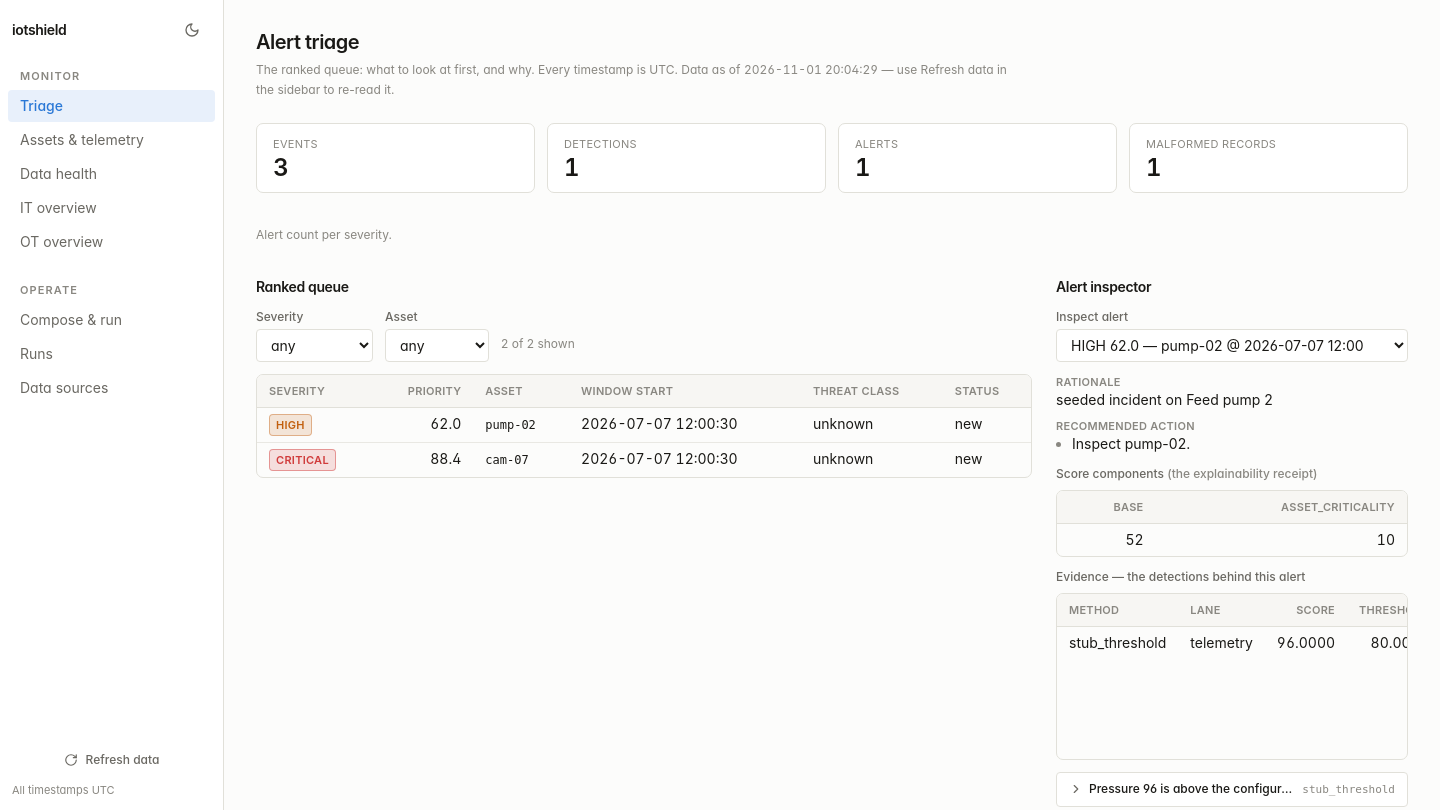
Test: Triage › selects an alert from the queue itself, and puts the choice in the URL
expect the text "seeded incident on Feed pump 2" is shown: met, box [1056,390,1273,408]
Click the button with aria-label "Inspect CRITICAL 88.4 — cam-07": (302, 460) [269,448,336,470]
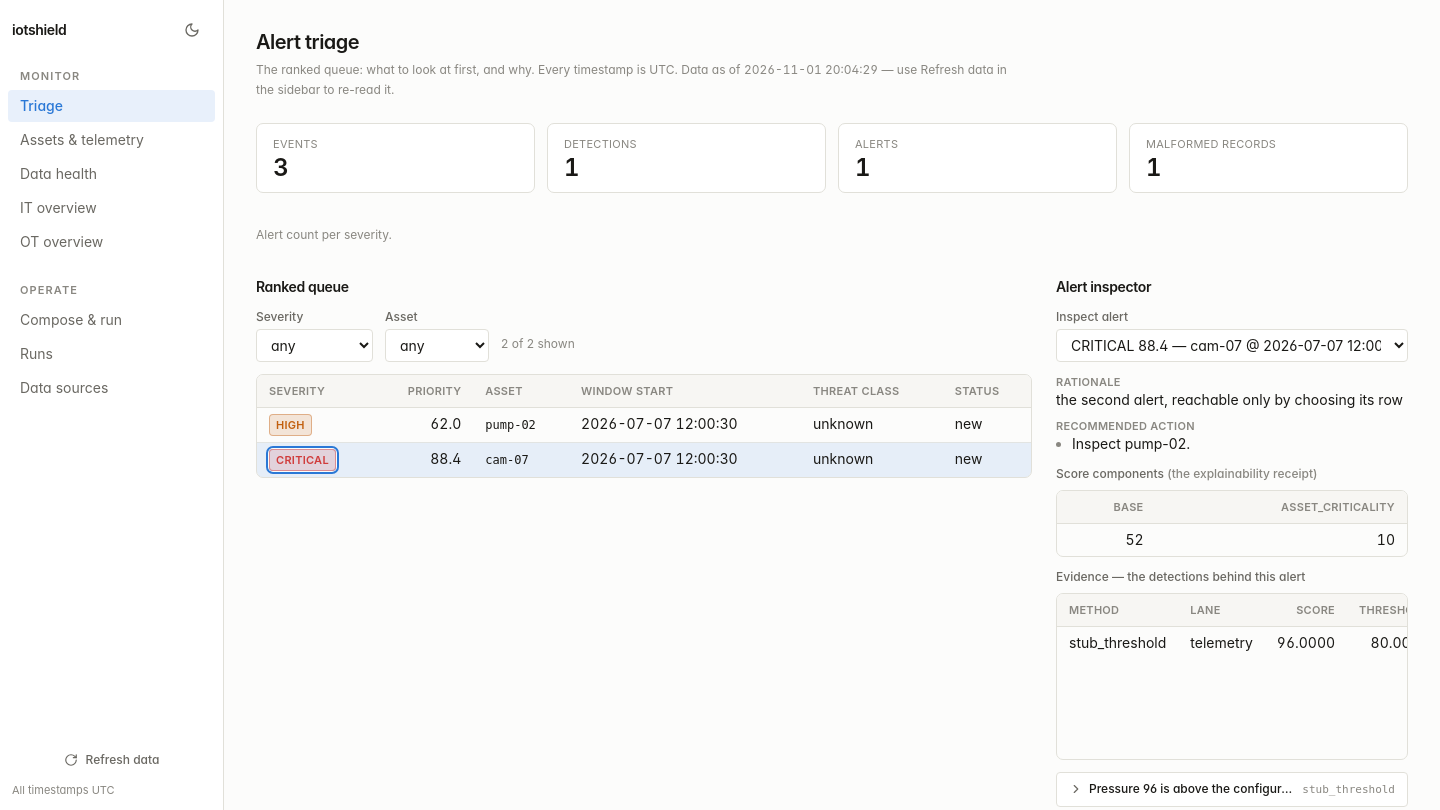
expect the text "the second alert, reachable only by choosing its row" is shown: met, box [1056,390,1408,410]
expect the dropdown labelled "Inspect alert" shows "CRITICAL 88.4 — cam-07 @ 2026-07-07 12:00": met, box [1056,328,1408,362]
